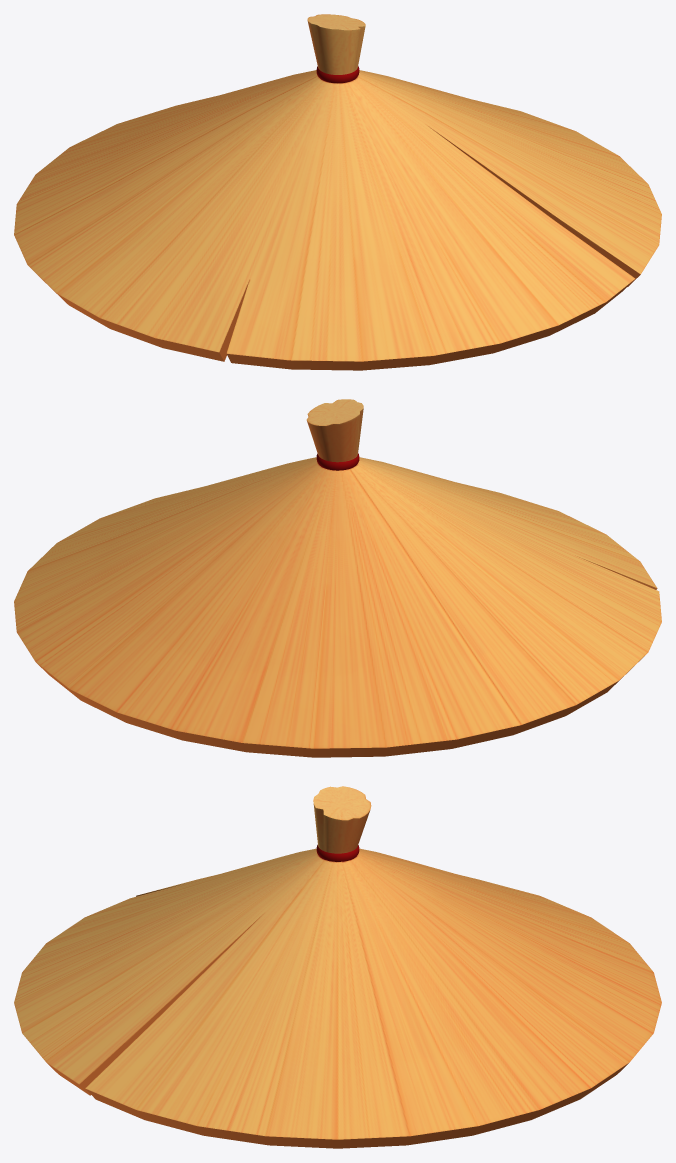
Rendered from ChineseConicalHat.fbx.
The picture shows the model from 3 angles, top to bottom: view 1: azimuth 30°, elevation 25°; view 2: azimuth 150°, elevation 25°; view 3: azimuth 270°, elevation 25°; orthographic projection.
Visible parts, largest first — view 1: ChineseConicalHat; view 2: ChineseConicalHat; view 3: ChineseConicalHat.
Part boxes in pixels (bbox=[...]): ChineseConicalHat: bbox=[14, 14, 661, 370]; ChineseConicalHat: bbox=[14, 399, 661, 757]; ChineseConicalHat: bbox=[14, 786, 661, 1148].
Size of the model in its own units: 166 by 62.4 by 166.
Materials: 1 (1 with a texture image).
